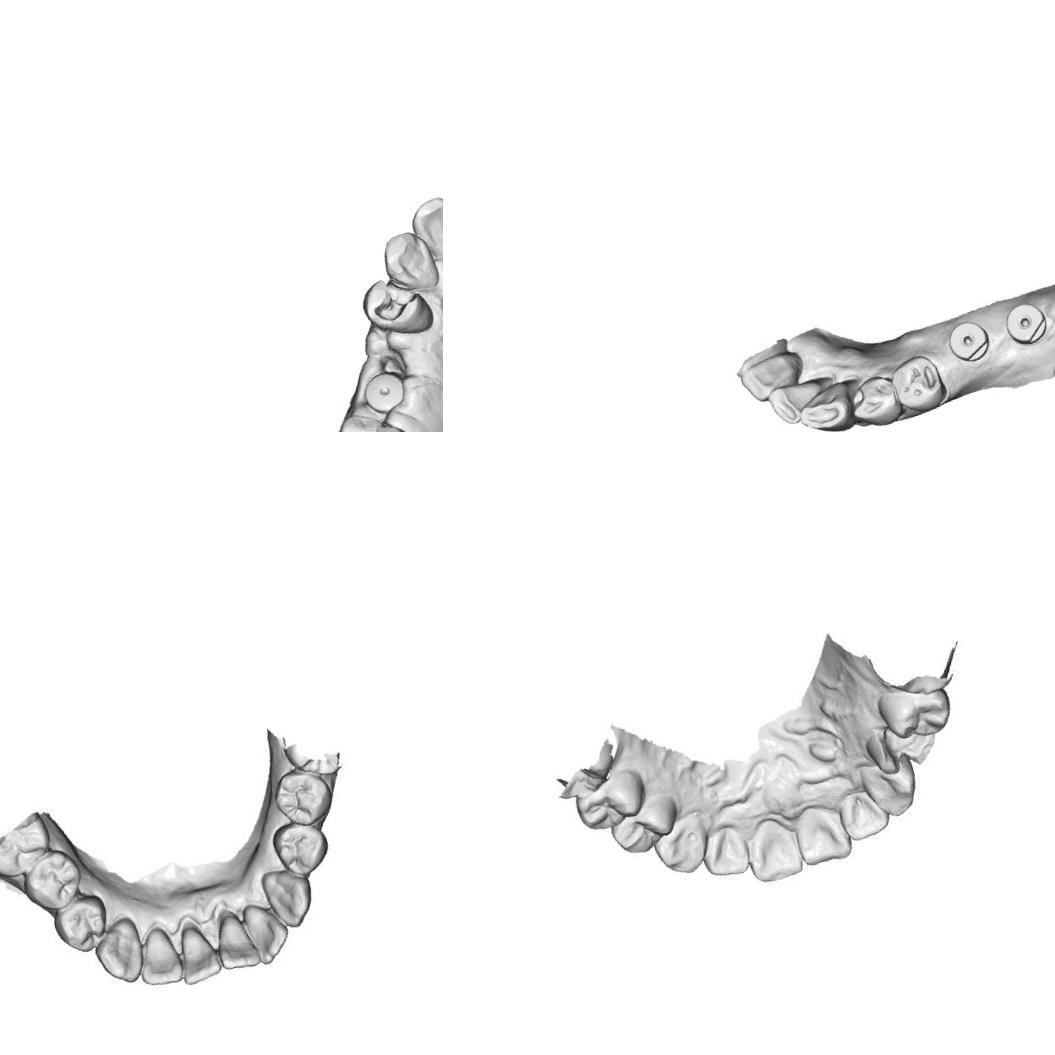canine: (372, 223, 443, 302), (646, 809, 715, 881), (88, 913, 151, 988), (858, 752, 925, 822), (256, 861, 320, 933), (789, 379, 865, 432)
implant: (937, 313, 995, 370), (355, 361, 412, 418), (1000, 294, 1053, 348)
incisor: (124, 920, 190, 998), (734, 345, 810, 407), (739, 821, 807, 889), (762, 371, 840, 430), (206, 904, 264, 976), (788, 808, 853, 870), (832, 786, 894, 845), (240, 898, 292, 966), (697, 823, 753, 883), (170, 917, 220, 983), (404, 192, 443, 267)
inlay: (364, 275, 423, 328)
molar: (322, 397, 429, 432)
premolar: (862, 709, 947, 778), (566, 769, 650, 835), (15, 842, 86, 916), (264, 762, 336, 834), (876, 680, 952, 746), (602, 800, 681, 860), (47, 888, 114, 958), (884, 348, 950, 418), (269, 812, 333, 880), (841, 365, 905, 432)
